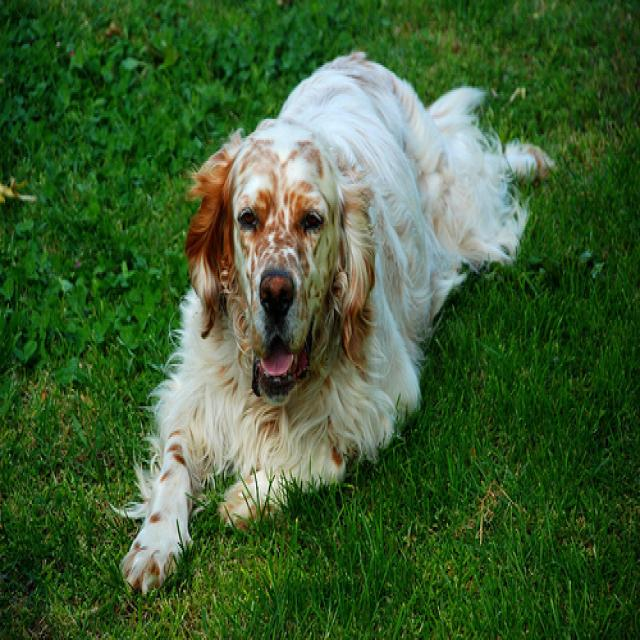dog-english_setter: (99, 42, 559, 606)
